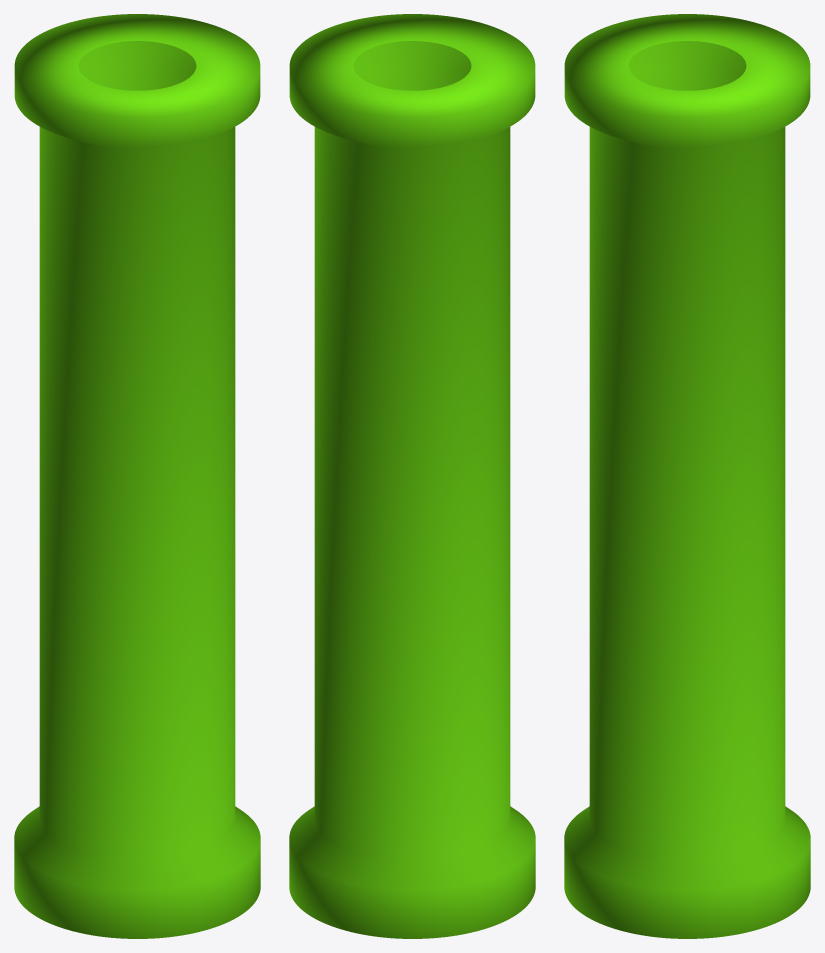
The model's file is tube_mario.dae.
The picture shows the model from 3 angles, left to right: view 1: azimuth 30°, elevation 25°; view 2: azimuth 150°, elevation 25°; view 3: azimuth 270°, elevation 25°; orthographic projection.
Visible parts, largest first — view 1: Cylinder; view 2: Cylinder; view 3: Cylinder.
Boxes of the visible parts, <box> form: Cylinder: <box>14,14,260,938</box>; Cylinder: <box>289,14,535,938</box>; Cylinder: <box>564,14,810,938</box>.
Bounding box in the file's own units: 2.52 × 2.52 × 9.25.
